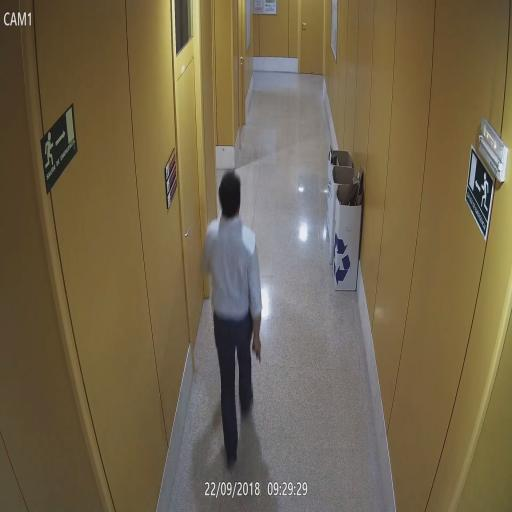Handgun: (251, 339, 264, 366)
